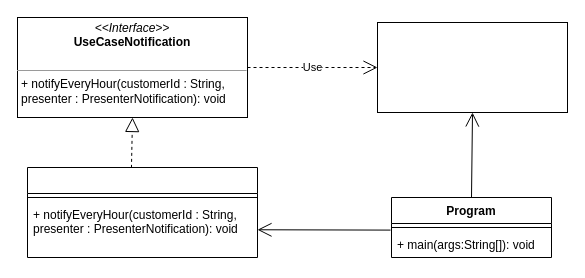
Some shapes in this 585 by 278 pixel diagram are drawn without their labels. Each missing label, with the box of its shape:
<<Interface>> PresenterNotification + notification(message:String): void: (376, 22, 568, 112)
PoolingUseCaseNotification: (26, 166, 258, 258)
